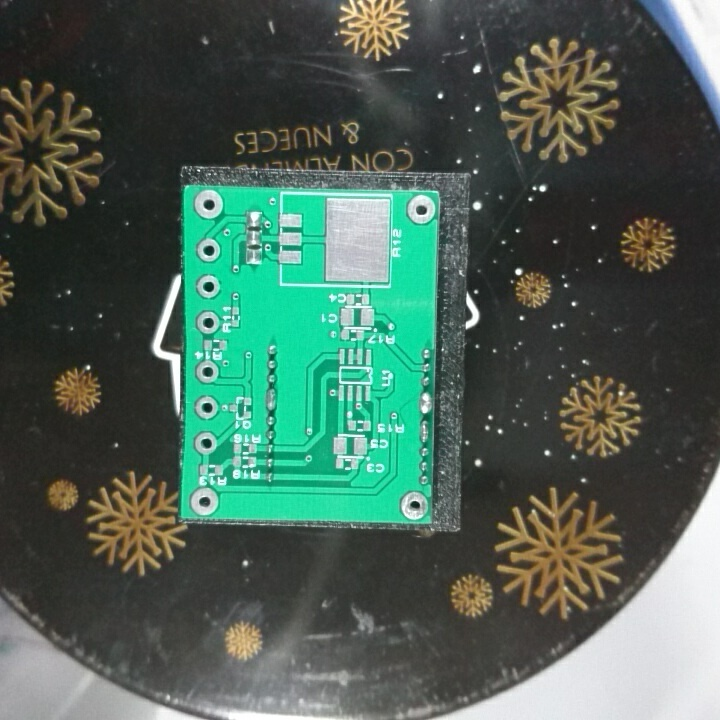F: (192, 186, 225, 220), (405, 195, 438, 226), (190, 486, 221, 516), (398, 489, 428, 520), (192, 307, 221, 336), (194, 272, 220, 302), (194, 238, 222, 263), (191, 429, 217, 455), (194, 359, 219, 386), (193, 395, 220, 420)
P: (262, 386, 279, 413), (417, 390, 433, 418), (418, 419, 432, 446)
